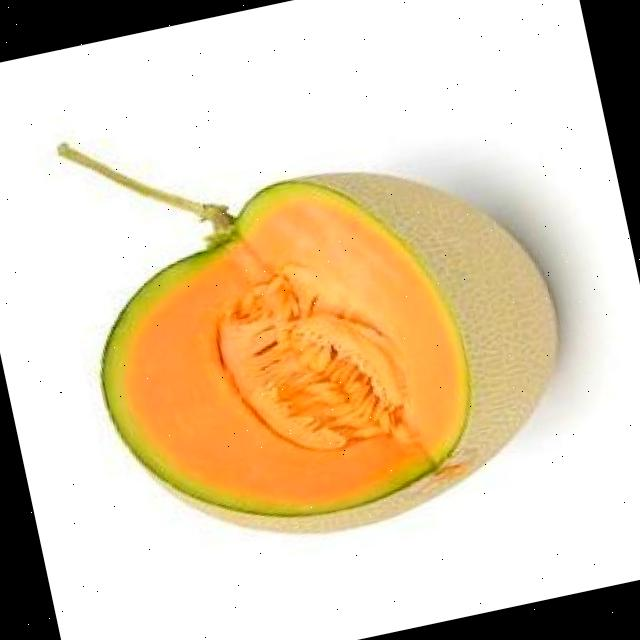Hami Melon: (65, 130, 592, 574)
